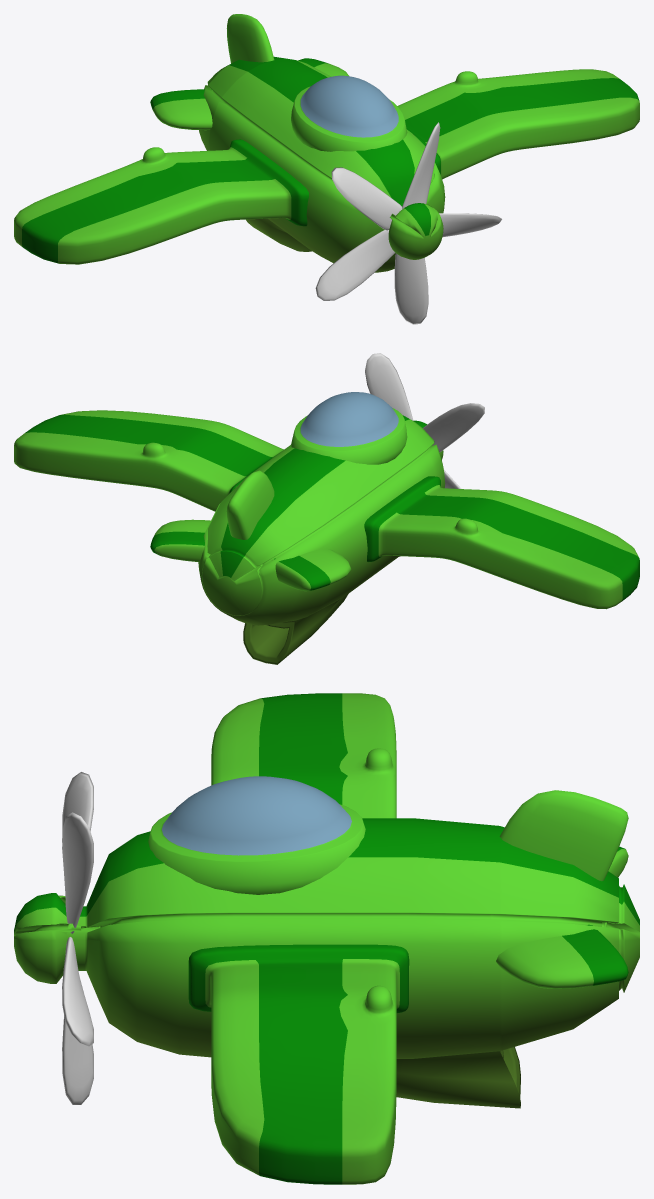
3 renders of one model, top to bottom at view 1: azimuth 30°, elevation 25°; view 2: azimuth 150°, elevation 25°; view 3: azimuth 270°, elevation 25°, orthographic. The views are drawn at different scales.
Parts seen in each view (by area): view 1: Sphere.005, Cube.015; view 2: Sphere.005, Cube.015; view 3: Sphere.005, Cube.015.
Part boxes in pixels (x1=…): Sphere.005: x1=14, y1=14, x2=639, y2=272; Cube.015: x1=315, y1=122, x2=501, y2=324; Sphere.005: x1=14, y1=392, x2=639, y2=664; Cube.015: x1=365, y1=353, x2=484, y2=556; Sphere.005: x1=14, y1=693, x2=639, y2=1184; Cube.015: x1=62, y1=772, x2=93, y2=1104.
Size of the model in its own units: 899 by 291 by 519.
